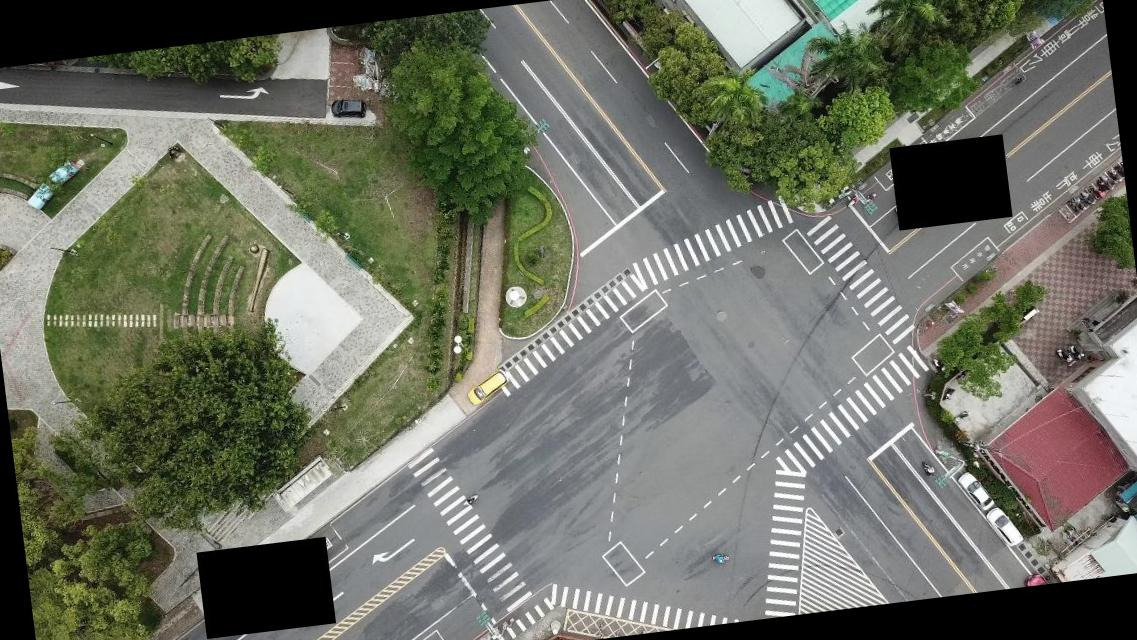vehicle: (464, 368, 512, 406), (956, 468, 994, 514), (985, 504, 1022, 550), (330, 96, 366, 120), (1022, 572, 1048, 586)
